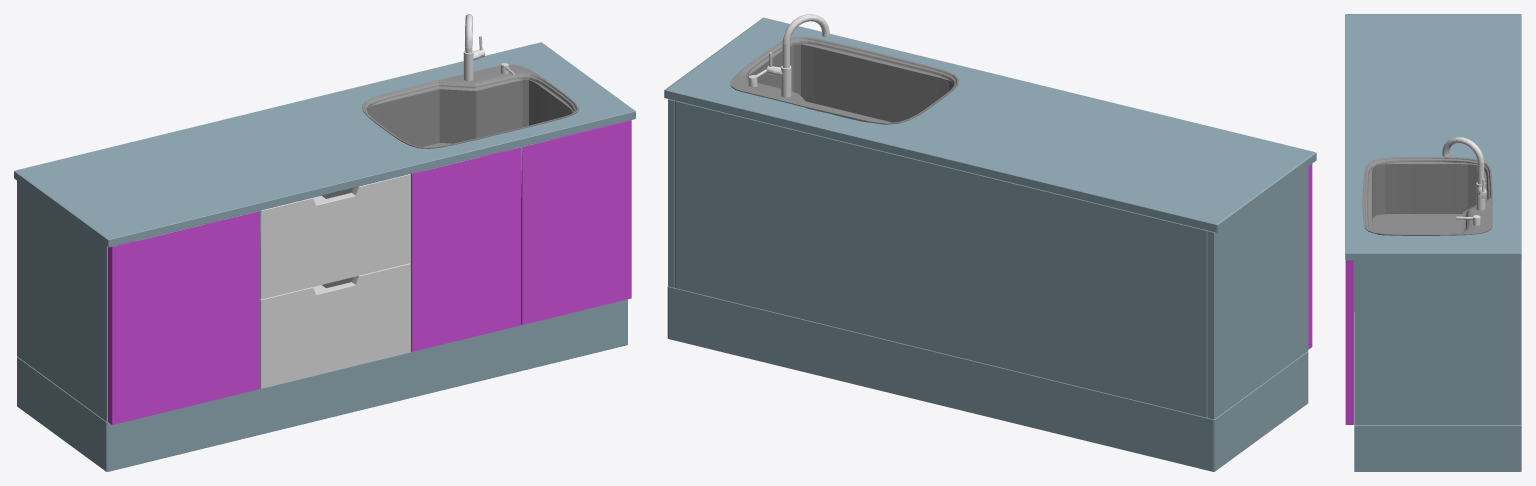
File: mueble lavabo 1.FBX
3 renders of one model, left to right at view 1: azimuth 30°, elevation 25°; view 2: azimuth 150°, elevation 25°; view 3: azimuth 270°, elevation 25°, orthographic. The views are drawn at different scales.
Parts seen in each view (by area): view 1: drawer2, Object003, Object, Object001, drawer, drawer005, Box001, Object007, Tube001; view 2: drawer2, Box001, Object007, Tube001, Object003; view 3: drawer2, Box001, Object, Tube001.
Boxes of the visible parts, x1,y1,x2,y2 form: drawer2: (14,42,635,471); Object003: (108,211,259,424); Object: (521,120,631,324); Object001: (410,147,520,351); drawer: (260,263,410,388); drawer005: (260,174,410,299); Box001: (362,64,578,148); Object007: (17,181,107,421); Tube001: (463,14,515,81); drawer2: (664,17,1316,471); Box001: (730,36,958,124); Object007: (1208,168,1308,419); Tube001: (748,14,829,97); Object003: (1308,164,1312,349); drawer2: (1345,14,1521,471); Box001: (1362,157,1492,235); Object: (1345,260,1353,424); Tube001: (1442,136,1486,225).
Bounding box in the file's own units: 139 × 78.19 × 43.16.
